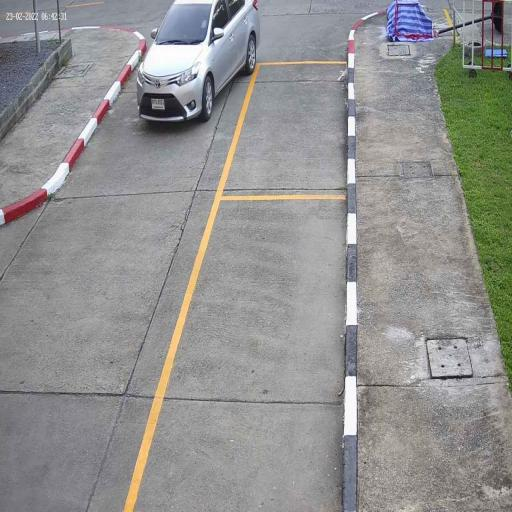car: (135, 0, 262, 126)
